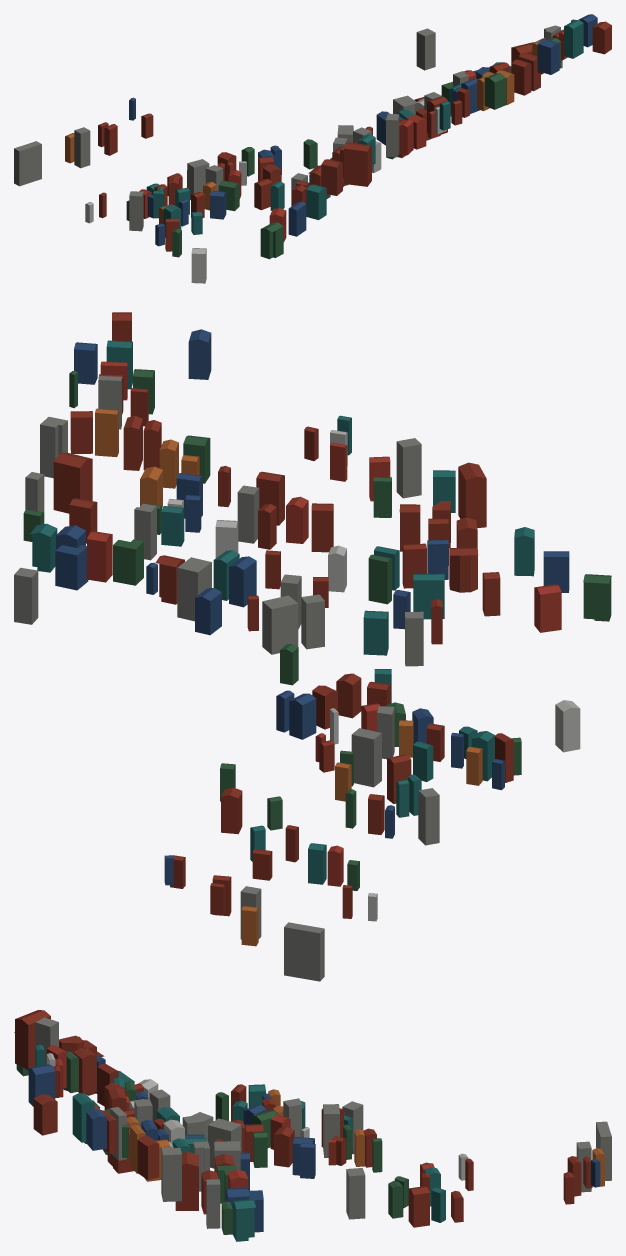
Rendered from near-17-109434-59474.cacb83f4.glb.
The picture shows the model from 3 angles, top to bottom: view 1: azimuth 30°, elevation 25°; view 2: azimuth 150°, elevation 25°; view 3: azimuth 270°, elevation 25°; orthographic projection. The views are drawn at different scales.
Bounding box in the file's own units: 282 × 164 × 300.
